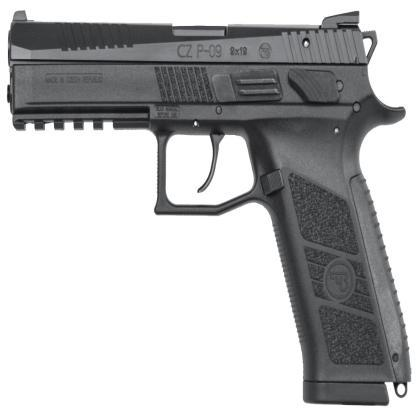gun: (7, 2, 411, 411)
